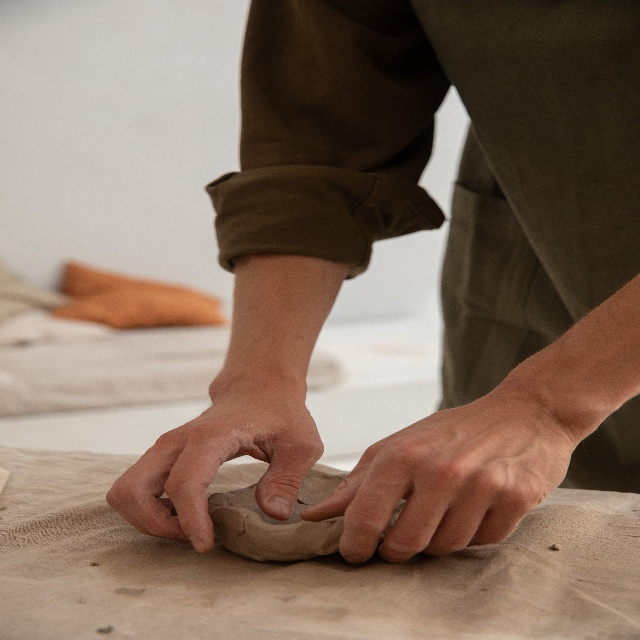Sin_guantes: (296, 399, 571, 561), (105, 395, 323, 545)
